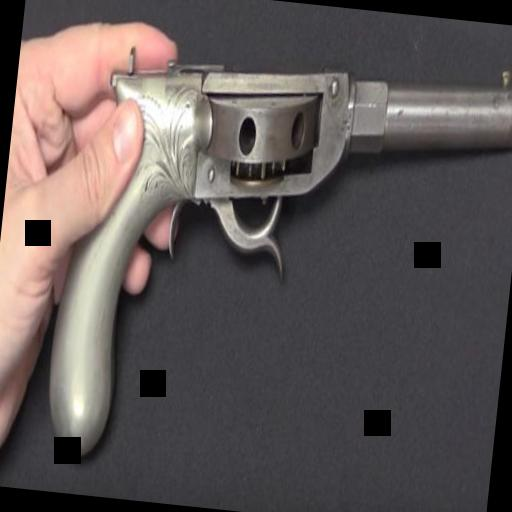Handgun: (38, 6, 512, 487)
